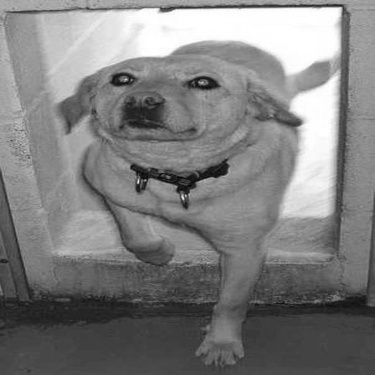dog: (56, 32, 347, 369)
